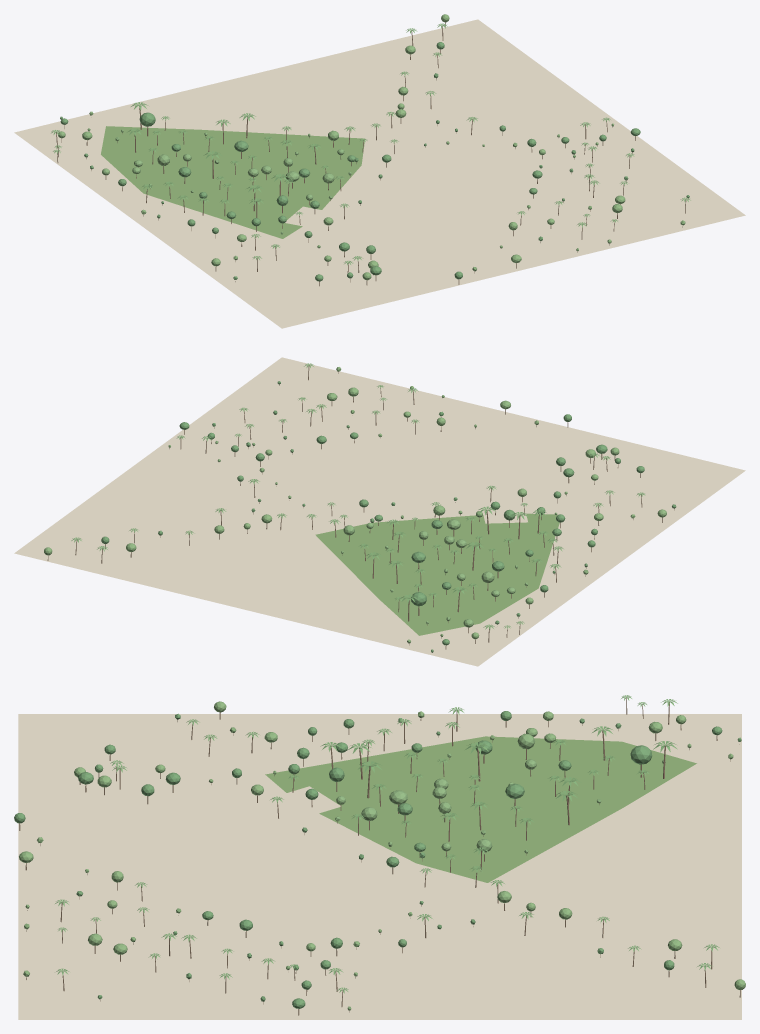
The model's file is nature_0_5.glb.
3 renders of one model, top to bottom at view 1: azimuth 30°, elevation 25°; view 2: azimuth 150°, elevation 25°; view 3: azimuth 270°, elevation 25°, orthographic. The views are drawn at different scales.
Parts seen in each view (by area): view 1: ground, grass, foliage_b, foliage_a, palm_leaf, trunk; view 2: ground, grass, foliage_b, foliage_a, palm_leaf, trunk; view 3: ground, grass, foliage_b, foliage_a, palm_leaf, trunk.
Boxes of the visible parts, x1,y1,x2,y2 form: ground: [14, 19, 745, 328]; grass: [101, 126, 364, 238]; foliage_b: [58, 14, 685, 280]; foliage_a: [60, 42, 689, 281]; palm_leaf: [51, 23, 690, 265]; trunk: [56, 22, 686, 286]; ground: [14, 357, 745, 666]; grass: [315, 513, 559, 635]; foliage_b: [44, 367, 666, 643]; foliage_a: [101, 381, 676, 652]; palm_leaf: [71, 363, 645, 629]; trunk: [47, 365, 674, 649]; ground: [18, 714, 741, 1019]; grass: [265, 736, 696, 882]; foliage_b: [19, 701, 745, 1010]; foliage_a: [14, 711, 741, 1008]; palm_leaf: [55, 695, 719, 993]; trunk: [19, 697, 740, 1015].
Size of the model in its own units: 252 by 13.4 by 253.
